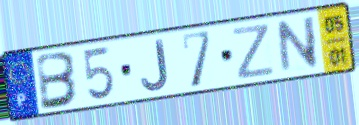5: (81, 45, 117, 102)
7: (181, 28, 213, 90)
B: (35, 50, 82, 113)
J: (139, 37, 171, 93)
N: (275, 14, 321, 77)
Z: (231, 22, 277, 82)
